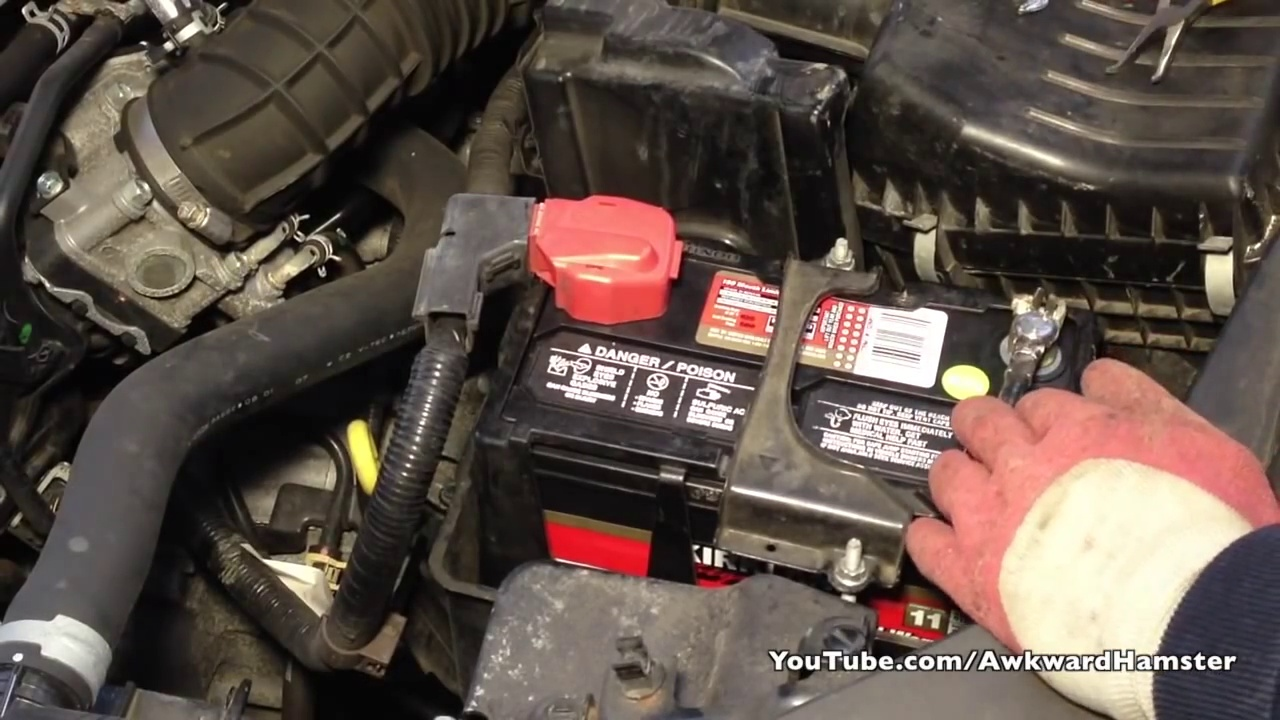battery: (492, 208, 1089, 547)
neg_connected: (968, 267, 1080, 393)
neg_touched: (950, 283, 1110, 513)
pos_connected: (456, 158, 690, 324)
